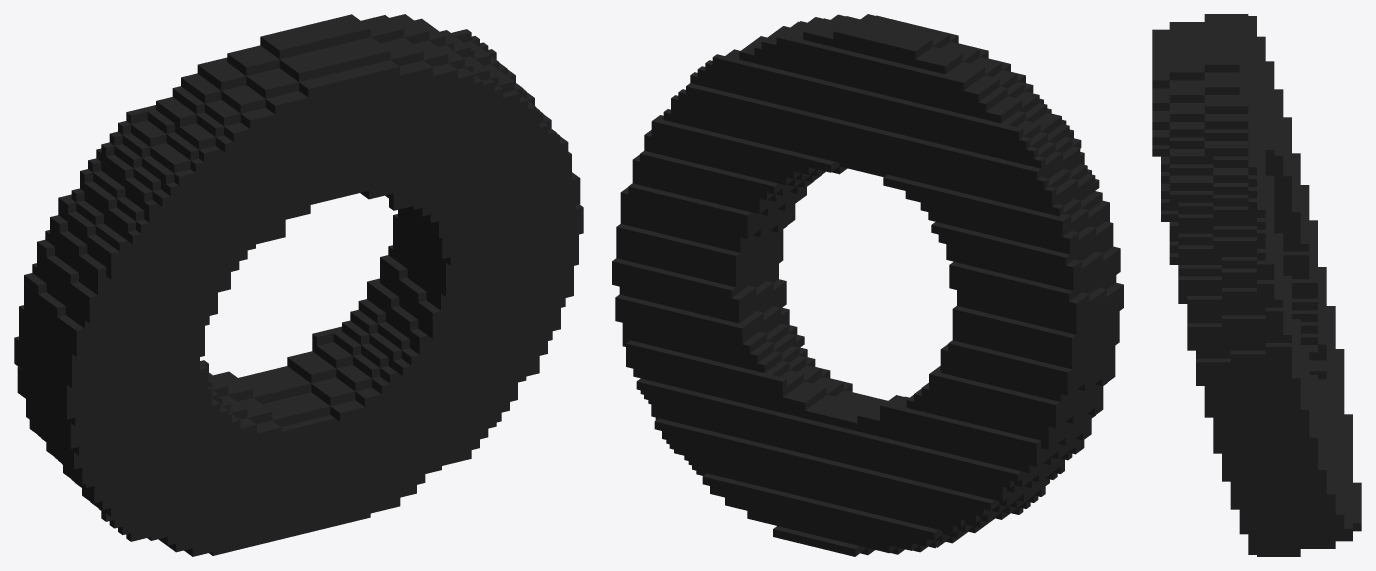
The model's file is Lab-2-Tire.fbx.
3 renders of one model, left to right at view 1: azimuth 30°, elevation 25°; view 2: azimuth 150°, elevation 25°; view 3: azimuth 270°, elevation 25°, orthographic. The views are drawn at different scales.
Parts seen in each view (by area): view 1: Tire; view 2: Tire; view 3: Tire.
Boxes of the visible parts, <box> form: Tire: <box>14,14,583,556</box>; Tire: <box>612,14,1123,556</box>; Tire: <box>1152,14,1361,556</box>.
Bounding box in the file's own units: 61 × 60 × 24.
